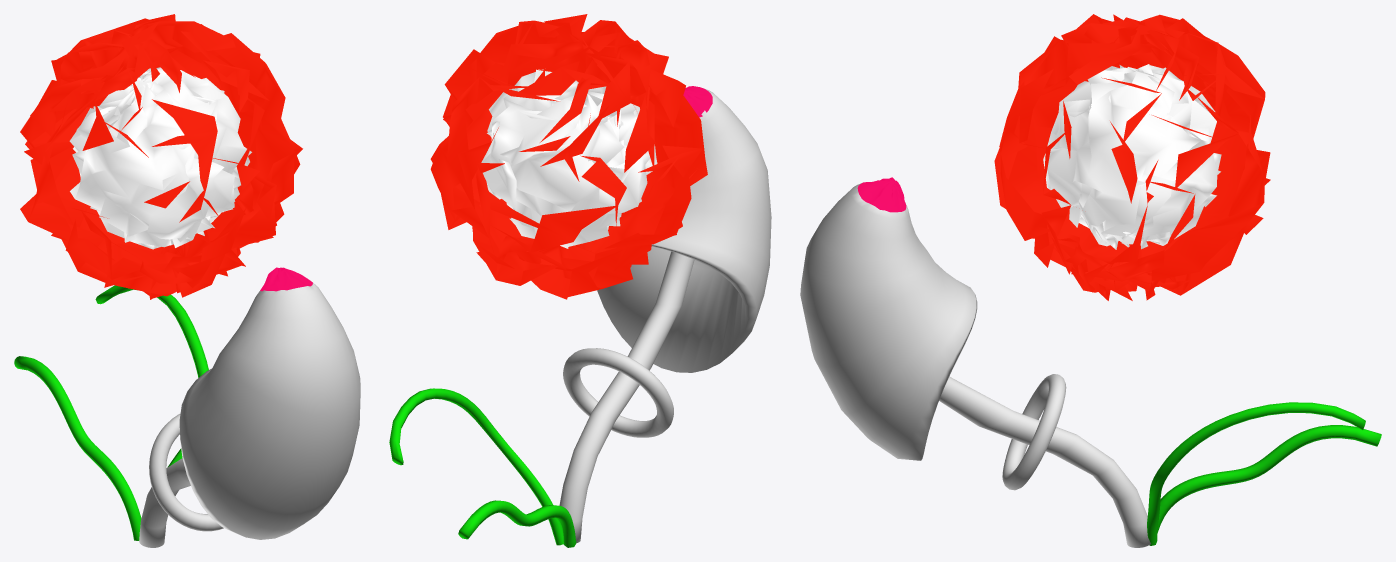
The model's file is plant_03_universsun_state03.gltf.
3 views of the same model, side by side, from view 1: azimuth 30°, elevation 25°; view 2: azimuth 150°, elevation 25°; view 3: azimuth 270°, elevation 25° (orthographic). The views are drawn at different scales.
Visible parts, largest first — view 1: Cylinder.004, Cylinder.003, Cylinder.005, Cylinder.001, Cylinder.002; view 2: Cylinder.004, Cylinder.003, Cylinder.005, Cylinder.001, Cylinder.002; view 3: Cylinder.004, Cylinder.003, Cylinder.005, Cylinder.001, Cylinder.002.
Part boxes in pixels (<box>): Cylinder.004: <box>20,14,302,299</box>; Cylinder.003: <box>139,267,360,547</box>; Cylinder.005: <box>69,67,251,249</box>; Cylinder.001: <box>14,285,208,540</box>; Cylinder.002: <box>149,413,223,531</box>; Cylinder.004: <box>430,14,707,299</box>; Cylinder.003: <box>559,86,771,543</box>; Cylinder.005: <box>481,69,657,248</box>; Cylinder.001: <box>389,388,576,547</box>; Cylinder.002: <box>563,348,673,437</box>; Cylinder.004: <box>994,14,1270,300</box>; Cylinder.003: <box>800,177,1150,547</box>; Cylinder.005: <box>1043,64,1221,249</box>; Cylinder.001: <box>1147,402,1381,545</box>; Cylinder.002: <box>1002,374,1066,490</box>.
Bounding box in the file's own units: 0.6685 × 1.4 × 1.41.
